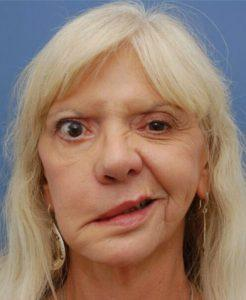strokeEyeSevere: (46, 99, 191, 148)
strokeMouthSevere: (68, 188, 169, 232)
